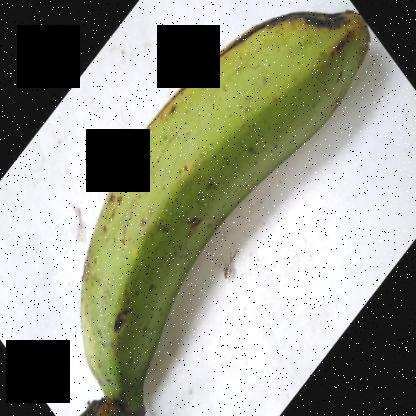unripe: (71, 1, 392, 390)
